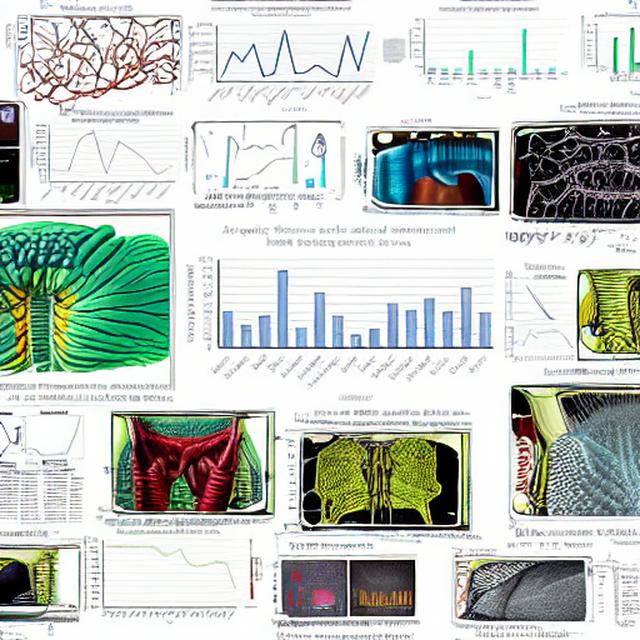Graph: (178, 217, 503, 406), (185, 2, 378, 117), (80, 527, 241, 627), (405, 5, 562, 104), (30, 117, 178, 206), (16, 408, 91, 464), (503, 321, 575, 365), (352, 579, 415, 616)
